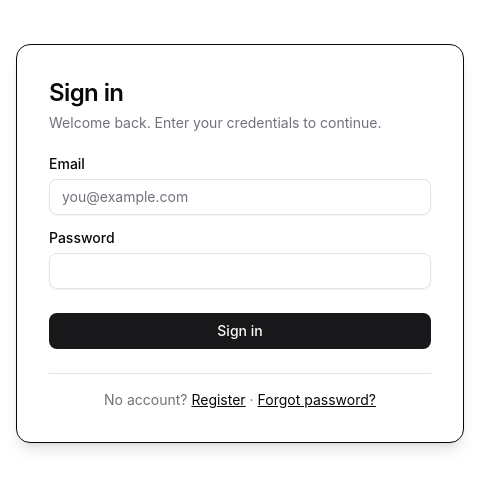
Test case: LoginPage › shows validation error when submitting empty form
Click the button "Sign in". click: (240,330)
box: [49,312,431,348]
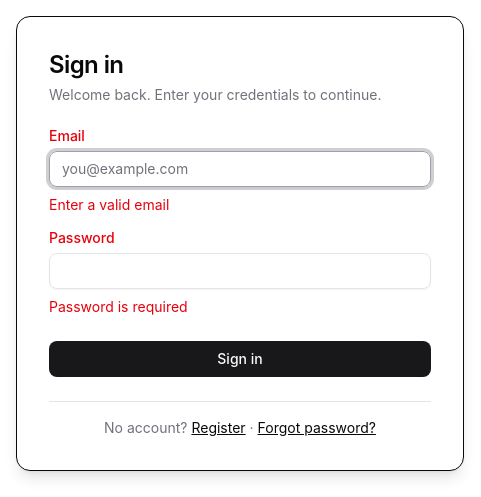
Expected: the text "Enter a valid email" is shown, [49,196,169,212]
